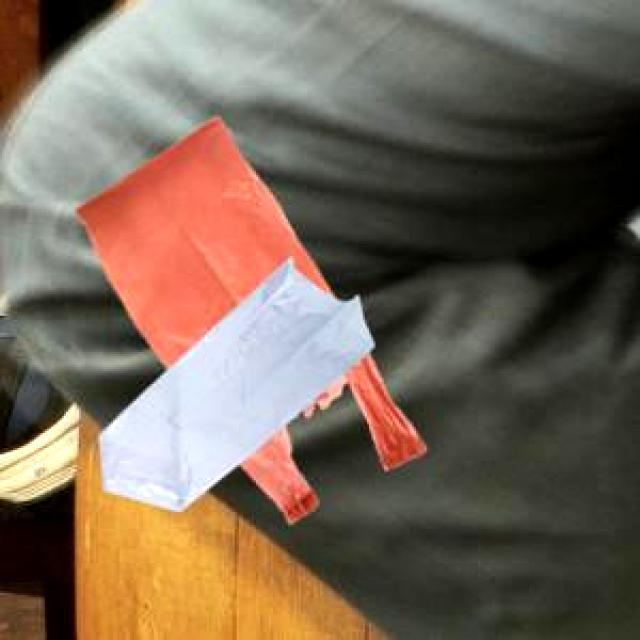Plastic_Bag: (74, 114, 422, 520), (97, 255, 370, 509)
